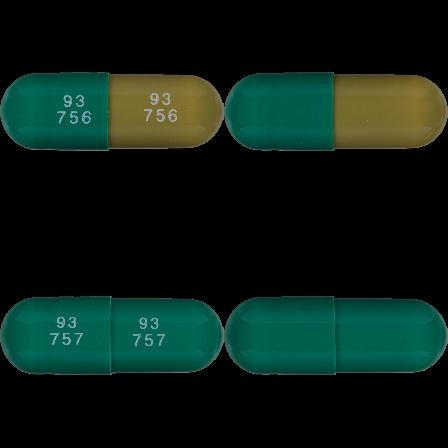54868-2198: (0, 0, 224, 224)
